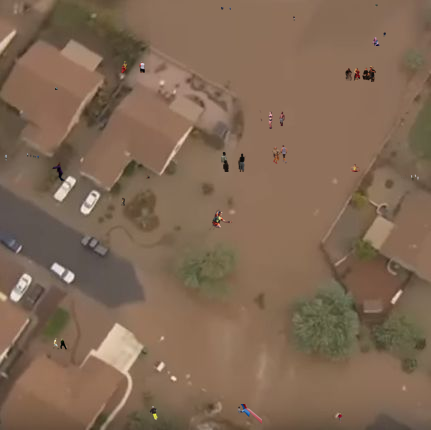Human: (208, 209, 233, 231), (237, 404, 262, 426), (345, 65, 376, 82), (221, 152, 246, 172), (259, 110, 285, 129), (272, 145, 288, 164), (121, 61, 145, 73), (52, 162, 65, 181), (53, 338, 67, 350), (401, 174, 424, 181), (149, 406, 158, 421), (350, 164, 360, 172), (372, 37, 380, 46), (27, 153, 39, 159), (337, 413, 343, 423), (121, 197, 125, 206), (221, 7, 231, 10), (4, 154, 7, 161), (146, 175, 150, 179), (125, 26, 128, 31), (383, 32, 386, 37), (375, 3, 378, 7), (293, 16, 295, 21), (55, 87, 58, 90)
